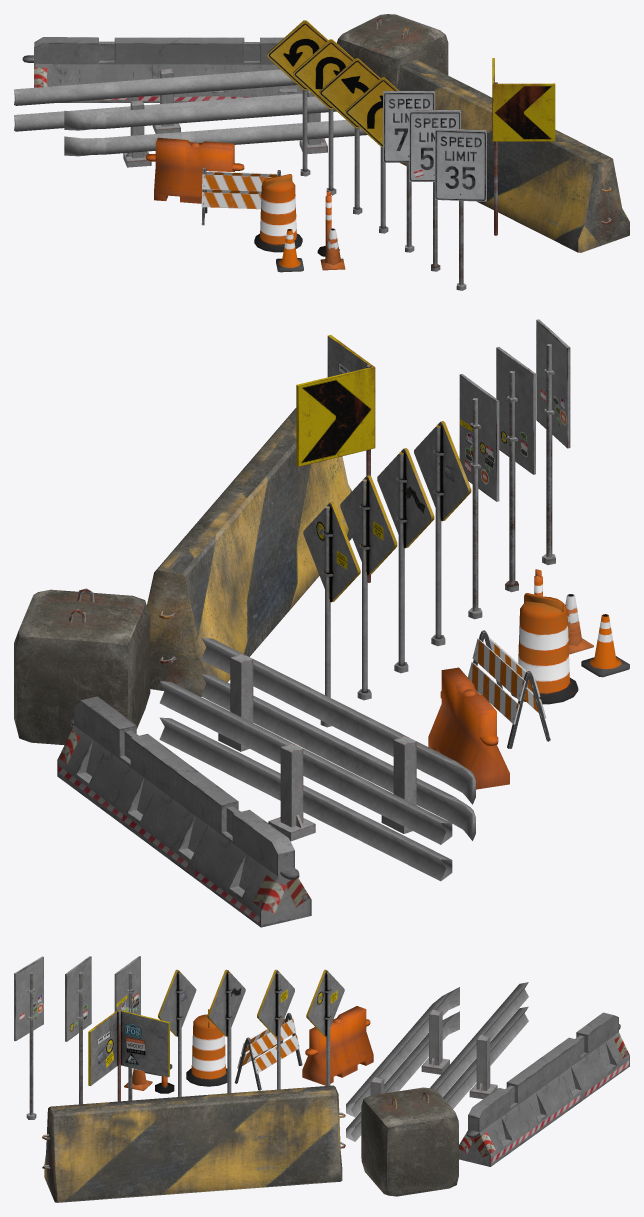
Rendered from Highway_stuff.fbx.
3 renders of one model, top to bottom at view 1: azimuth 30°, elevation 25°; view 2: azimuth 150°, elevation 25°; view 3: azimuth 270°, elevation 25°, orthographic. The views are drawn at different scales.
Parts seen in each view (by area): view 1: SP_CCS_ConcreteBlock_1, SP_HWS_RoadBarrier_1, GuardRail_Highway_2, GuardRail_Highway_1, SP_CSS_ConcreteBlock_2, DP_HWS_SignSpeedLim_1, DP_HWS_SignTurn_1, DP_HWS_RoadBarrier_1_ncl1_1, DP_HWS_SignSpeedLim_3, DP_HWS_SignSpeedLim_2, DP_HWS_RoadDrum_1, DP_HWS_RoadBarrier_1 (+7 smaller); view 2: SP_CCS_ConcreteBlock_1, SP_HWS_RoadBarrier_1, GuardRail_Highway_1, SP_CSS_ConcreteBlock_2, GuardRail_Highway_2, DP_HWS_SignTurn_1, DP_HWS_RoadBarrier_1_ncl1_1, DP_HWS_SignSpeedLim_3, DP_HWS_SignSpeedLim_2, DP_HWS_RoadDrum_1, DP_HWS_SignSpeedLim_1, DP_HWS_SignDangerTurn_1 (+5 smaller); view 3: SP_CCS_ConcreteBlock_1, SP_HWS_RoadBarrier_1, SP_CSS_ConcreteBlock_2, GuardRail_Highway_2, DP_HWS_SignTurn_1, GuardRail_Highway_1, DP_HWS_RoadBarrier_1_ncl1_1, DP_HWS_SignSpeedLim_1, DP_HWS_RoadDrum_1, DP_HWS_SignSpeedLim_2, DP_HWS_RoadBarrier_1, DP_HWS_SignDangerTurn_1 (+4 smaller).
Boxes of the visible parts, x1,y1,x2,y2 form: SP_CCS_ConcreteBlock_1: [397, 59, 629, 252]; SP_HWS_RoadBarrier_1: [22, 37, 302, 102]; GuardRail_Highway_2: [64, 89, 367, 167]; GuardRail_Highway_1: [14, 68, 302, 133]; SP_CSS_ConcreteBlock_2: [337, 14, 448, 88]; DP_HWS_SignSpeedLim_1: [435, 128, 486, 290]; DP_HWS_SignTurn_1: [492, 58, 555, 235]; DP_HWS_RoadBarrier_1_ncl1_1: [145, 137, 244, 203]; DP_HWS_SignSpeedLim_3: [383, 91, 435, 252]; DP_HWS_SignSpeedLim_2: [409, 110, 461, 271]; DP_HWS_RoadDrum_1: [254, 174, 302, 252]; DP_HWS_RoadBarrier_1: [201, 167, 281, 225]; SP_CCS_ConcreteBlock_1: [147, 408, 351, 696]; SP_HWS_RoadBarrier_1: [57, 696, 311, 927]; GuardRail_Highway_1: [159, 681, 452, 881]; SP_CSS_ConcreteBlock_2: [14, 588, 150, 745]; GuardRail_Highway_2: [201, 638, 475, 840]; DP_HWS_SignTurn_1: [296, 335, 375, 582]; DP_HWS_RoadBarrier_1_ncl1_1: [428, 667, 509, 789]; DP_HWS_SignSpeedLim_3: [459, 374, 499, 619]; DP_HWS_SignSpeedLim_2: [496, 347, 535, 592]; DP_HWS_RoadDrum_1: [511, 593, 578, 704]; DP_HWS_SignSpeedLim_1: [536, 319, 570, 564]; DP_HWS_SignDangerTurn_1: [377, 448, 434, 673]; SP_CCS_ConcreteBlock_1: [42, 1085, 345, 1202]; SP_HWS_RoadBarrier_1: [459, 1012, 629, 1166]; SP_CSS_ConcreteBlock_2: [361, 1087, 458, 1196]; GuardRail_Highway_2: [346, 987, 459, 1141]; DP_HWS_SignTurn_1: [88, 1009, 169, 1101]; GuardRail_Highway_1: [430, 982, 528, 1108]; DP_HWS_RoadBarrier_1_ncl1_1: [302, 1006, 373, 1085]; DP_HWS_SignSpeedLim_1: [14, 956, 43, 1119]; DP_HWS_RoadDrum_1: [186, 1009, 227, 1086]; DP_HWS_SignSpeedLim_2: [65, 956, 91, 1104]; DP_HWS_RoadBarrier_1: [234, 1013, 302, 1090]; DP_HWS_SignDangerTurn_1: [207, 969, 245, 1093].
Bounding box in the file's own units: 418 × 175 × 633.
